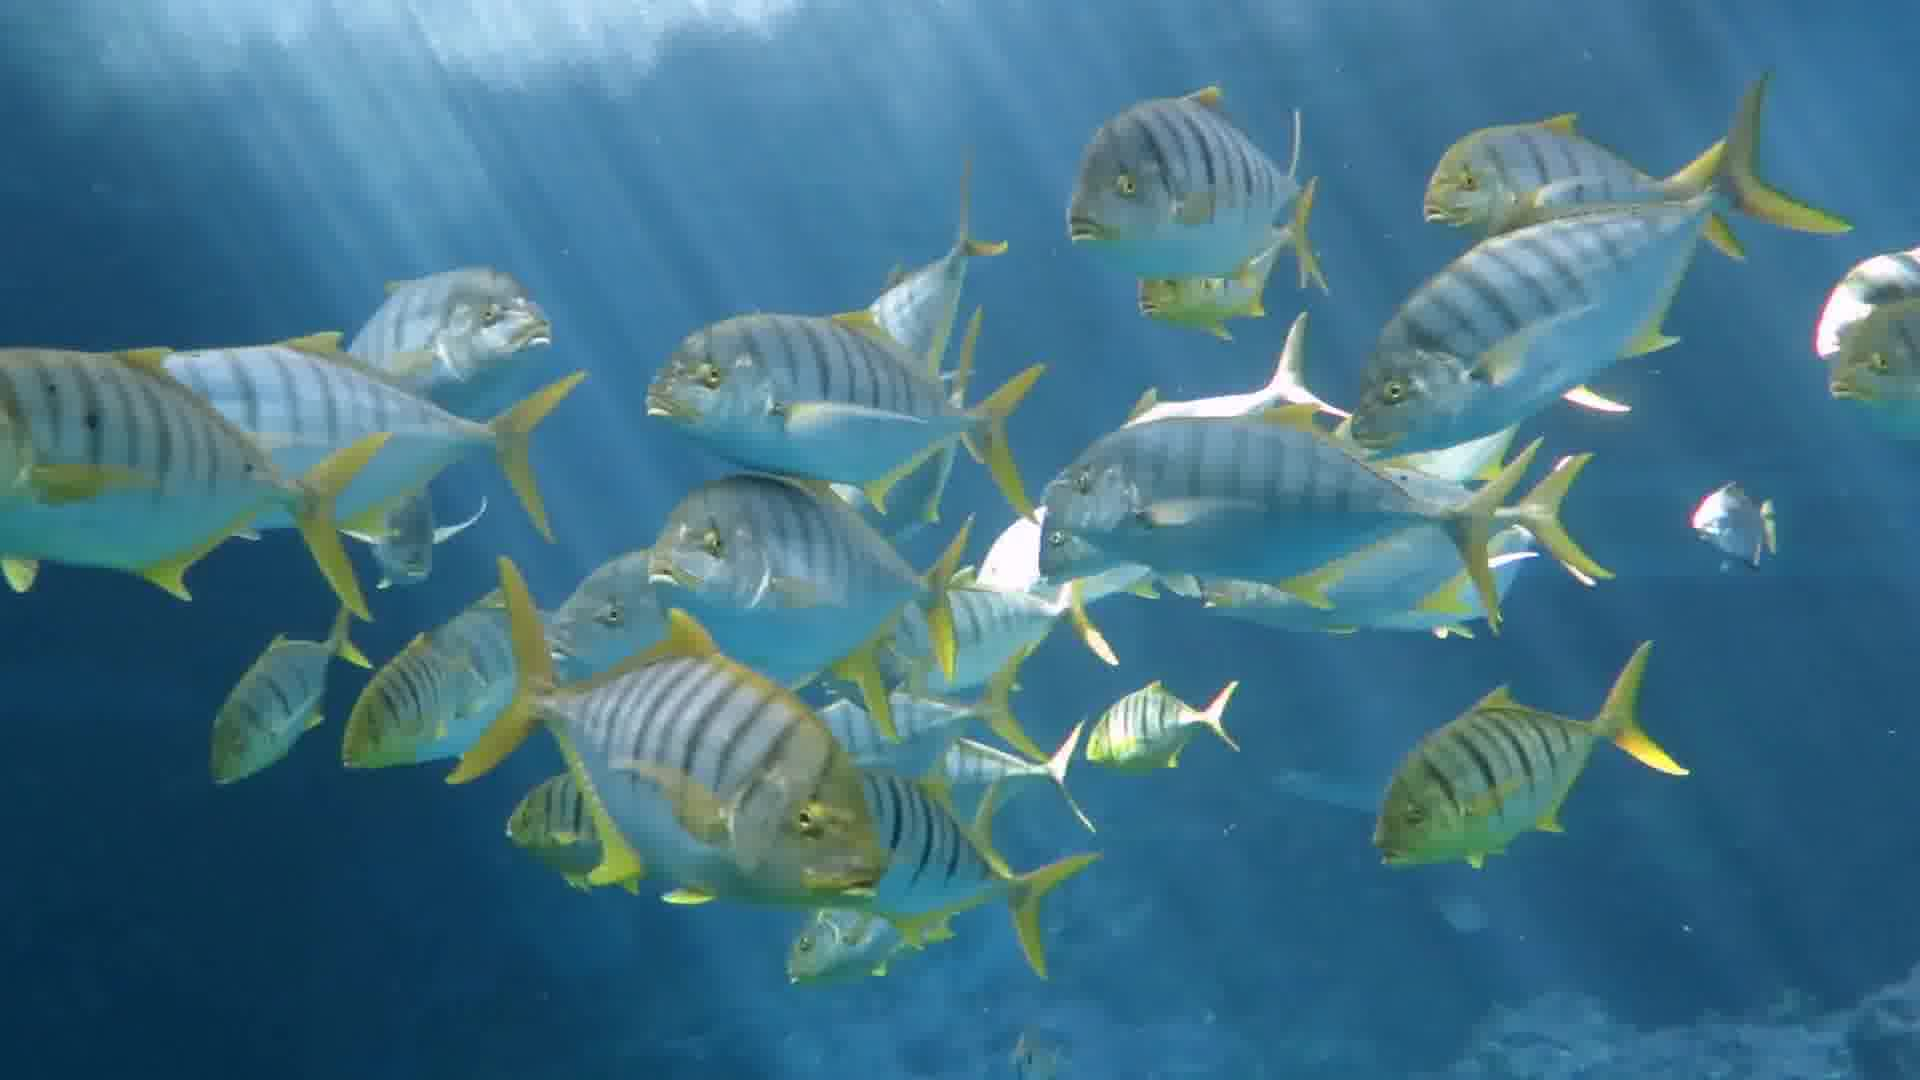Gnathanodon speciosus: (489, 612, 880, 911), (607, 285, 1058, 495), (1052, 429, 1535, 612), (1349, 218, 1716, 456), (1371, 674, 1696, 881), (1027, 88, 1309, 260), (607, 502, 986, 629), (328, 607, 497, 795), (1415, 109, 1705, 214), (357, 247, 553, 382), (216, 615, 328, 791), (760, 906, 940, 1006), (1075, 678, 1254, 767)
